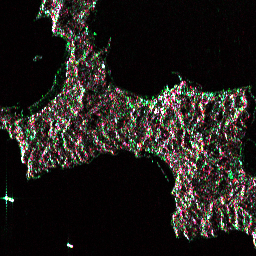ship: (3, 193, 15, 203), (64, 240, 75, 250)
